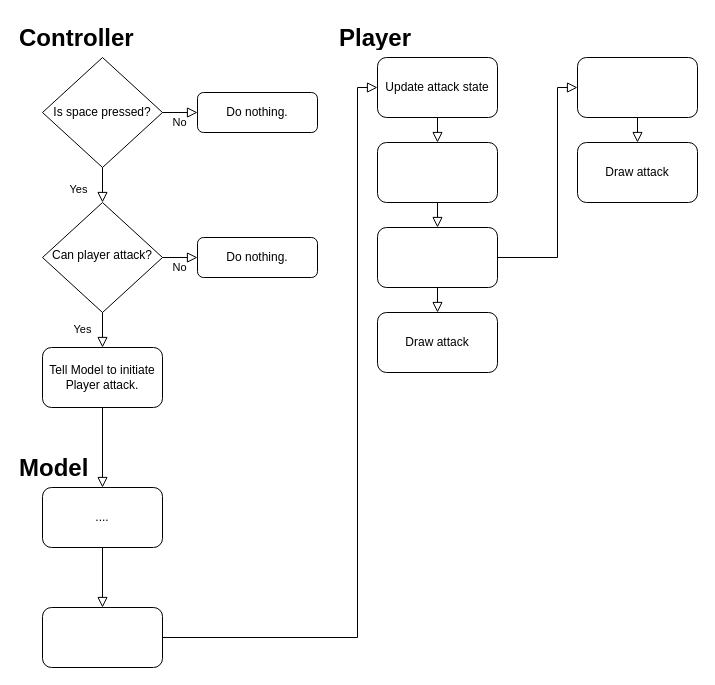
Some shapes in this 715 by 685 pixel diagram are drawn without their labels. The shapes that lost their labels are listed below. From the top down, each one's centre as x and y in pixels, then its label:
(x=637, y=87): Set angular velocity of Body.
(x=437, y=172): Stop movement.
(x=437, y=257): Tell Weapon to initiate attack
(x=102, y=637): Tell Player to initiate attack.
